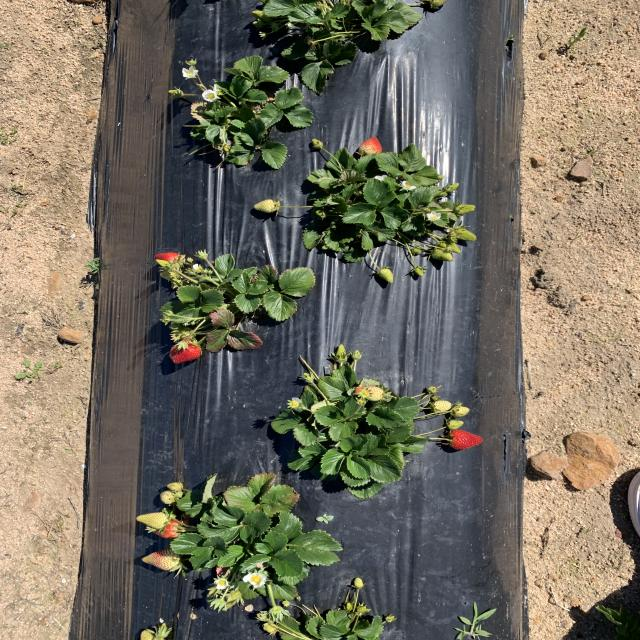unripe: (162, 336, 206, 364), (443, 428, 485, 450), (153, 251, 188, 271)
